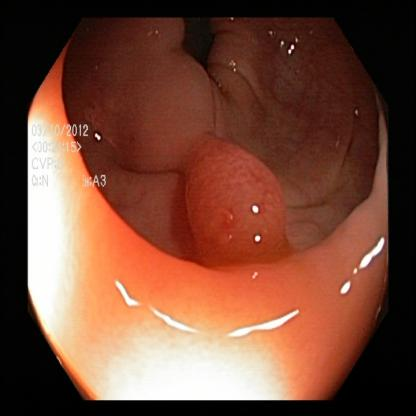Labels: (28, 116, 114, 196)
Polyps: (185, 137, 285, 259)
